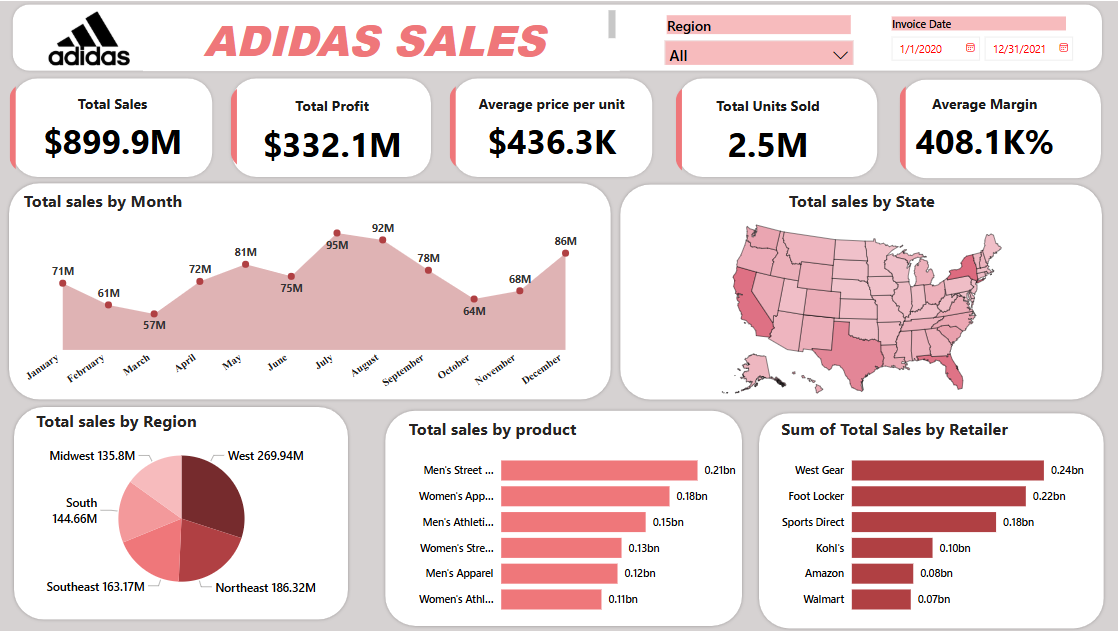

What the dashboard file says about the page in this screenshot:
{"tool":"powerbi","page":{"name":"Page 1","canvas":[1280,720],"ordinal":0},"visuals":[{"type":"shape","box":[12.3,0,1252.8,83.7],"z":0},{"type":"textbox","box":[166,5.5,544.8,74.1],"z":1000},{"type":"shape","box":[12.3,83.7,236,120.8],"z":2000},{"type":"cardVisual","fields":{"Data":["Sum(Data Sales Adidas.Total Sales)"]},"box":[1.4,81,259.3,127.6],"z":3000},{"type":"shape","box":[263.5,83.7,236,120.8],"z":4000},{"type":"cardVisual","fields":{"Data":["Sum(Data Sales Adidas.Operating Profit)"]},"box":[253.9,83.7,255.2,119.4],"z":5000},{"type":"shape","box":[772.6,83.7,236,120.8],"z":6000},{"type":"shape","box":[1029.2,85.1,236,120.8],"z":7000},{"type":"shape","box":[516,83.7,236,120.8],"z":8000},{"type":"cardVisual","fields":{"Data":["Sum(Data Sales Adidas.Price per Unit)"]},"box":[505,81,258,124.9],"z":9000},{"type":"cardVisual","fields":{"Data":["Sum(Data Sales Adidas.Units Sold)"]},"box":[763,83.7,234.6,126.2],"z":10000},{"type":"slicer","fields":{"Values":["Data Sales Adidas.Region"]},"box":[752,11,236,61.7],"z":11000},{"type":"shape","box":[8.2,204.5,695.7,255.2],"z":12000},{"type":"areaChart","fields":{"Category":["Data Sales Adidas.Invoice Date.Variation.Date Hierarchy.Month"],"Y2":["Sum(Data Sales Adidas.Total Sales)"]},"box":[24.7,215.4,650.4,244.3],"z":13000},{"type":"shape","box":[706.7,205.8,558.5,253.9],"z":14000},{"type":"shape","box":[14.5,459.7,389.7,250.9],"z":15000},{"type":"pieChart","fields":{"Category":["Data Sales Adidas.Region"],"Y":["Sum(Data Sales Adidas.Total Sales)"]},"box":[38.6,466.9,342.6,224.4],"z":16000},{"type":"shapeMap","fields":{"Category":["Data Sales Adidas.State"],"Value":["Sum(Data Sales Adidas.Total Sales)"]},"box":[746.5,215.4,480.3,248.4],"z":17000},{"type":"shape","box":[439.1,463.8,415.8,253.9],"z":18000},{"type":"shape","box":[865.9,466.6,402,253.9],"z":19000},{"type":"barChart","title":"Total sales by product","fields":{"Category":["Data Sales Adidas.Product"],"Y":["Sum(Data Sales Adidas.Total Sales)"]},"box":[463.8,476.2,391.1,237.4],"z":20000},{"type":"barChart","fields":{"Category":["Data Sales Adidas.Retailer"],"Y":["Sum(Data Sales Adidas.Total Sales)"]},"box":[890.6,476.2,356.8,237.4],"z":21000},{"type":"image","box":[38.4,6.9,131.7,71.4],"z":22000},{"type":"cardVisual","fields":{"Data":["Sum(Data Sales Adidas.Operating Margin)"]},"box":[1018.2,81,218.2,129],"z":23000},{"type":"slicer","fields":{"Values":["Data Sales Adidas.Invoice Date"]},"box":[1008.6,12.3,225,61.7],"z":24000}]}

Visuals, with their boxes in screenshot pixels (x1, y1, x2, y2), scaled from the page's 1280x720 canvas onto the 1120x632 screenshot:
shape: {"x1": 11, "y1": 0, "x2": 1107, "y2": 73}
textbox: {"x1": 145, "y1": 5, "x2": 622, "y2": 70}
shape: {"x1": 11, "y1": 73, "x2": 217, "y2": 180}
cardVisual - Sum(Data Sales Adidas.Total Sales): {"x1": 1, "y1": 71, "x2": 228, "y2": 183}
shape: {"x1": 231, "y1": 73, "x2": 437, "y2": 180}
cardVisual - Sum(Data Sales Adidas.Operating Profit): {"x1": 222, "y1": 73, "x2": 445, "y2": 178}
shape: {"x1": 676, "y1": 73, "x2": 883, "y2": 180}
shape: {"x1": 901, "y1": 75, "x2": 1107, "y2": 181}
shape: {"x1": 452, "y1": 73, "x2": 658, "y2": 180}
cardVisual - Sum(Data Sales Adidas.Price per Unit): {"x1": 442, "y1": 71, "x2": 668, "y2": 181}
cardVisual - Sum(Data Sales Adidas.Units Sold): {"x1": 668, "y1": 73, "x2": 873, "y2": 184}
slicer - Data Sales Adidas.Region: {"x1": 658, "y1": 10, "x2": 864, "y2": 64}
shape: {"x1": 7, "y1": 180, "x2": 616, "y2": 404}
areaChart - Data Sales Adidas.Invoice Date.Variation.Date Hierarchy.Month x Sum(Data Sales Adidas.Total Sales): {"x1": 22, "y1": 189, "x2": 591, "y2": 404}
shape: {"x1": 618, "y1": 181, "x2": 1107, "y2": 404}
shape: {"x1": 13, "y1": 404, "x2": 354, "y2": 624}
pieChart - Data Sales Adidas.Region x Sum(Data Sales Adidas.Total Sales): {"x1": 34, "y1": 410, "x2": 334, "y2": 607}
shapeMap - Data Sales Adidas.State x Sum(Data Sales Adidas.Total Sales): {"x1": 653, "y1": 189, "x2": 1073, "y2": 407}
shape: {"x1": 384, "y1": 407, "x2": 748, "y2": 630}
shape: {"x1": 758, "y1": 410, "x2": 1109, "y2": 631}
"Total sales by product" barChart: {"x1": 406, "y1": 418, "x2": 748, "y2": 626}
barChart - Data Sales Adidas.Retailer x Sum(Data Sales Adidas.Total Sales): {"x1": 779, "y1": 418, "x2": 1091, "y2": 626}
image: {"x1": 34, "y1": 6, "x2": 149, "y2": 69}
cardVisual - Sum(Data Sales Adidas.Operating Margin): {"x1": 891, "y1": 71, "x2": 1082, "y2": 184}
slicer - Data Sales Adidas.Invoice Date: {"x1": 883, "y1": 11, "x2": 1079, "y2": 65}
